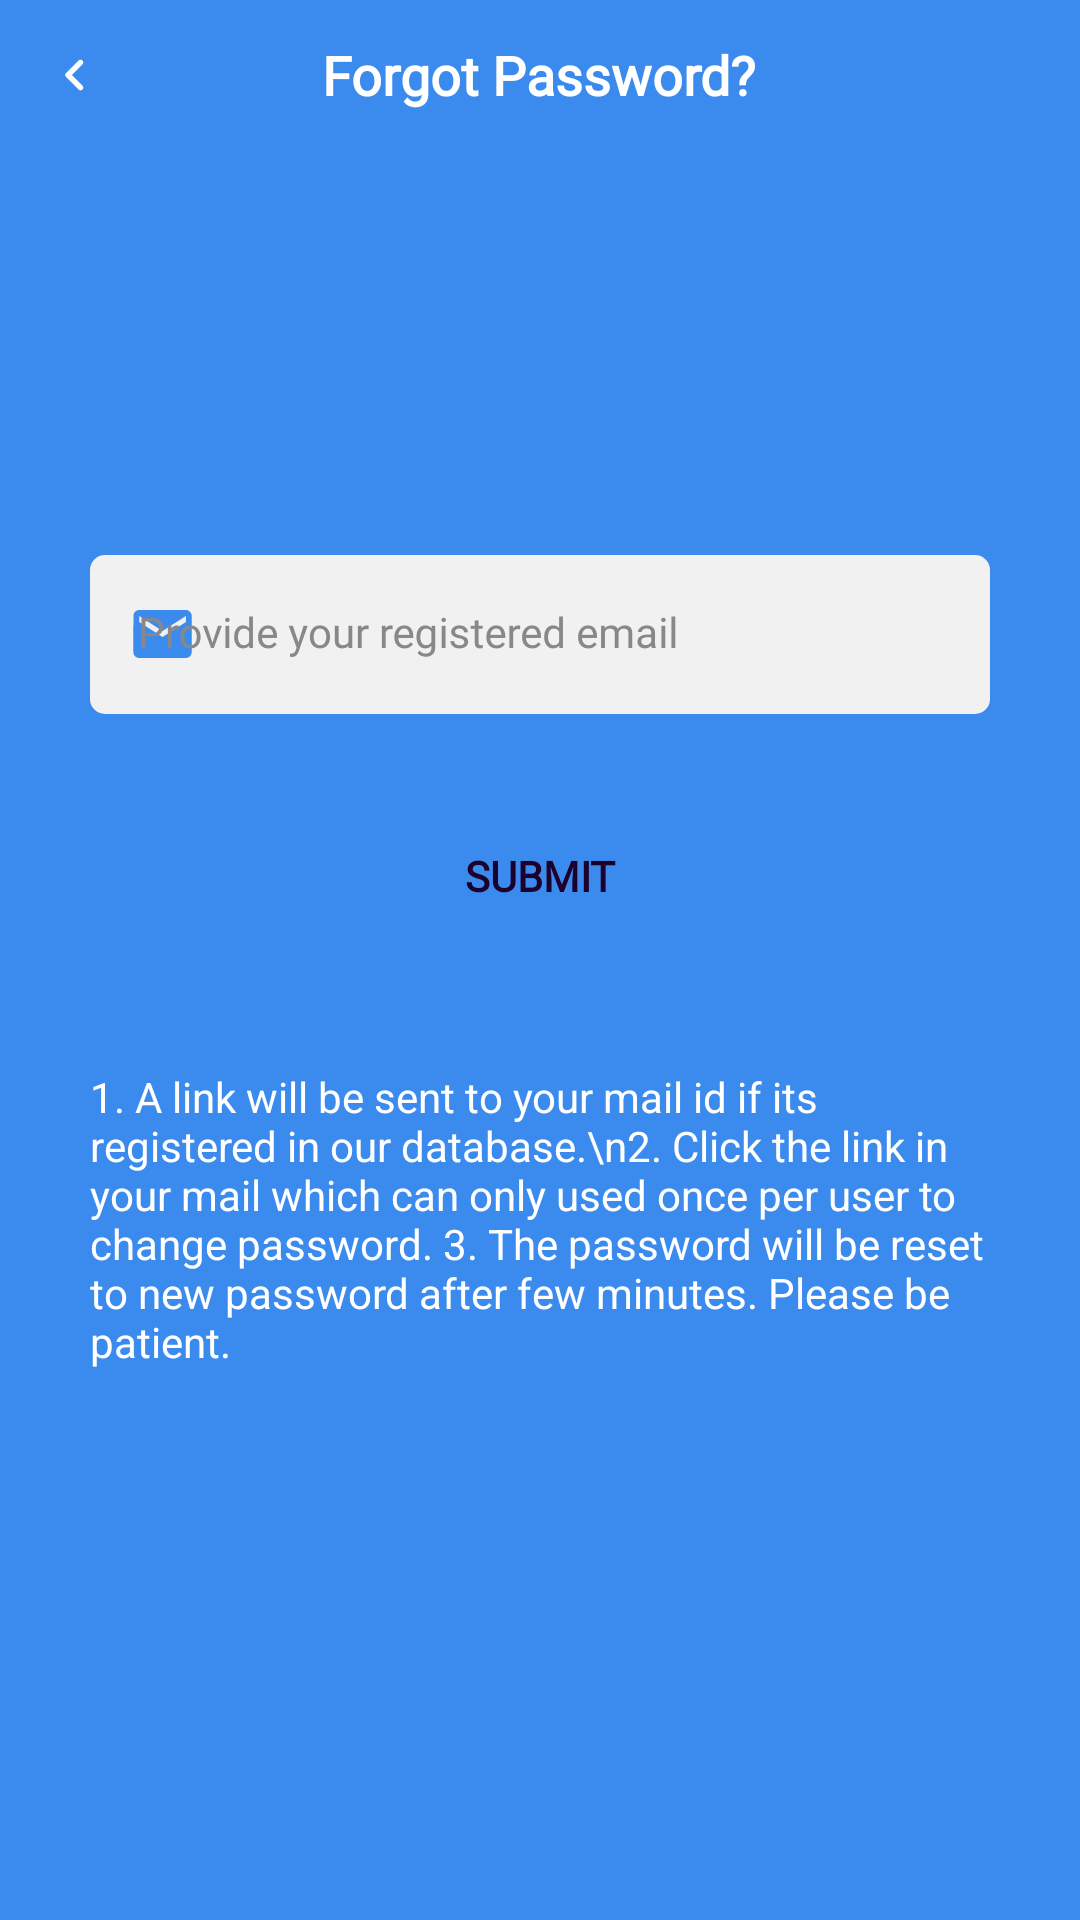

Screen size 1080×1920. Icon name, then its box in pixels as Rect(x1, y1, x2, y2):
left: Rect(65, 59, 84, 91)
